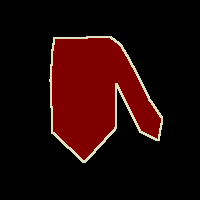tie: (50, 36, 162, 162)
